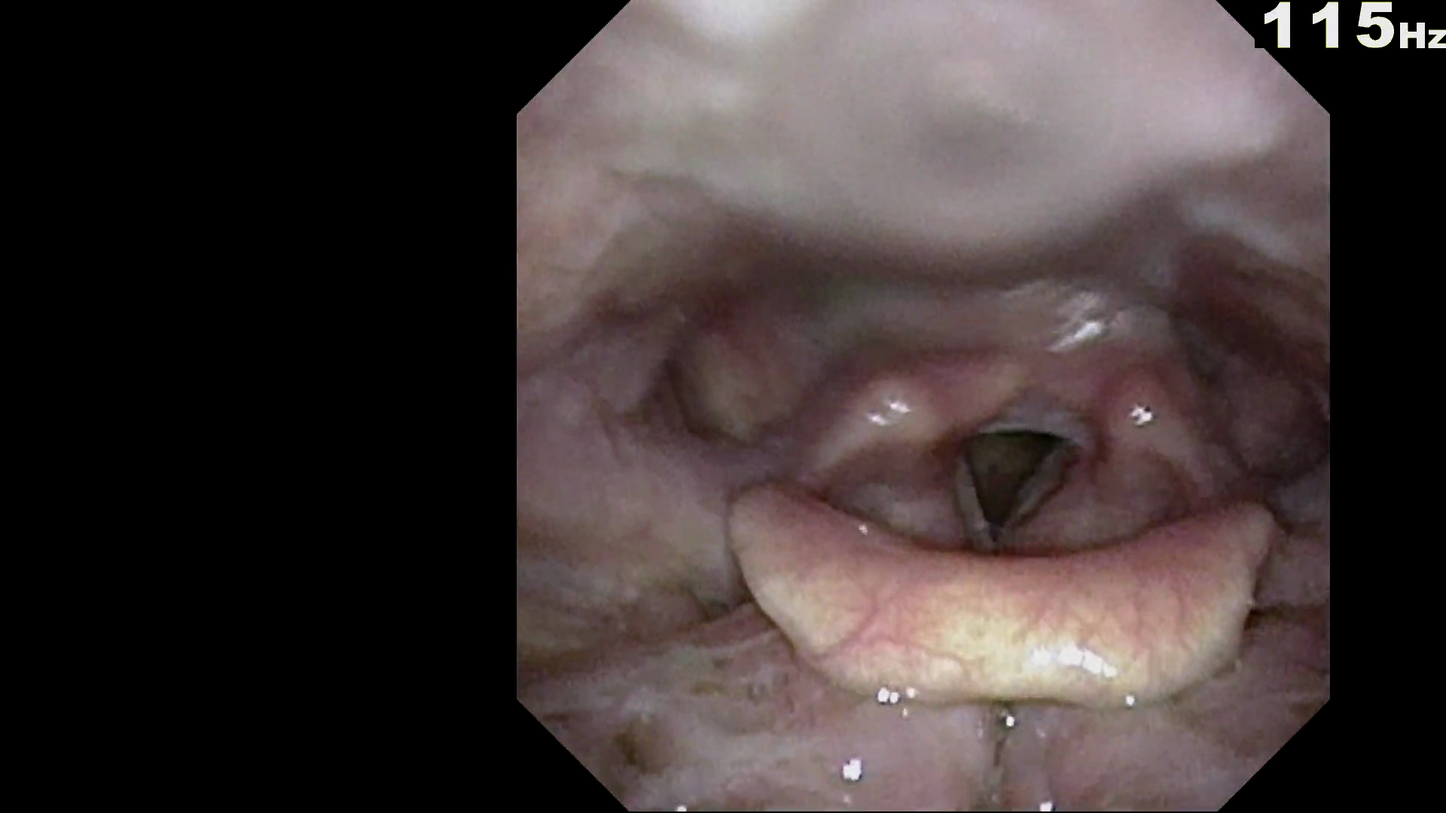epiglottis: (697, 521, 1306, 676)
trachea: (953, 405, 1079, 551)
